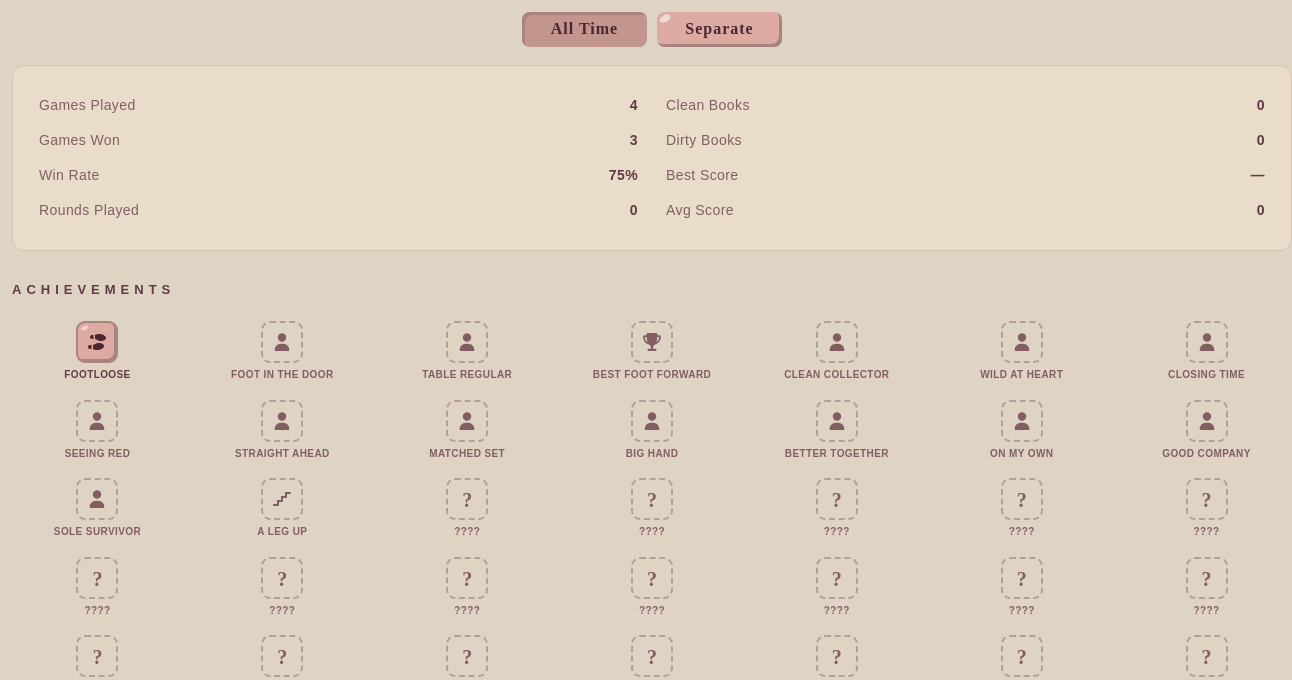
uses difficulty-specific records without mixing them with the legacy bot total
The image size is (1292, 680).
Click the button "Separate". click: (720, 30)
box: left=657, top=12, right=782, bottom=47
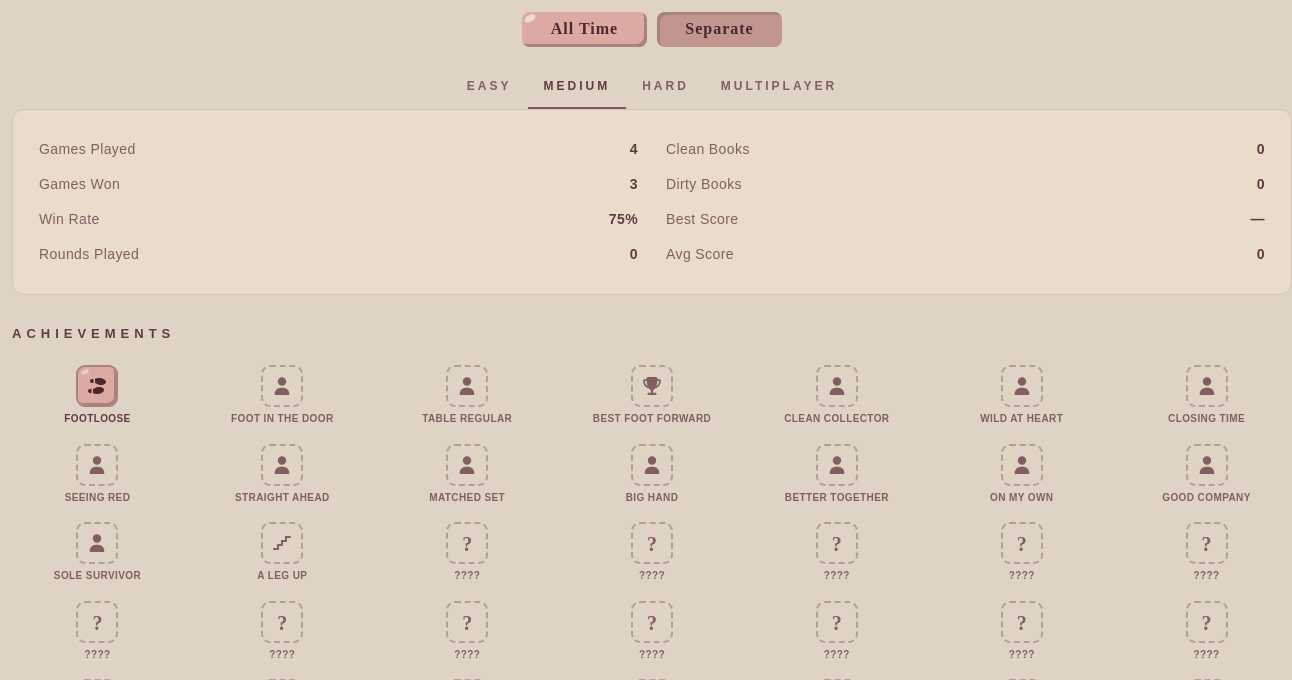
Expected: the text "75%" is shown, left=609, top=209, right=638, bottom=230
Click the button "Easy". click: (489, 87)
box: left=451, top=65, right=528, bottom=109
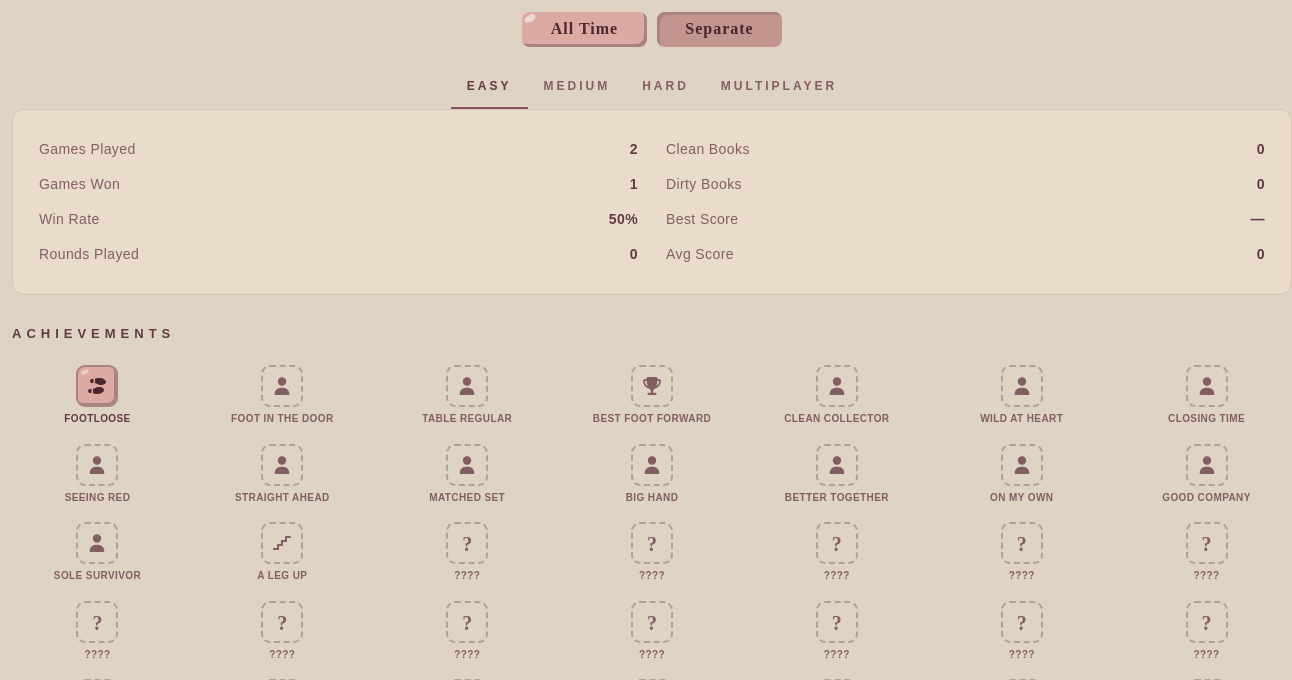
Result: the text "50%" is shown at left=609, top=209, right=638, bottom=230
Click the button "Hard". click: (666, 87)
box: left=626, top=65, right=705, bottom=109
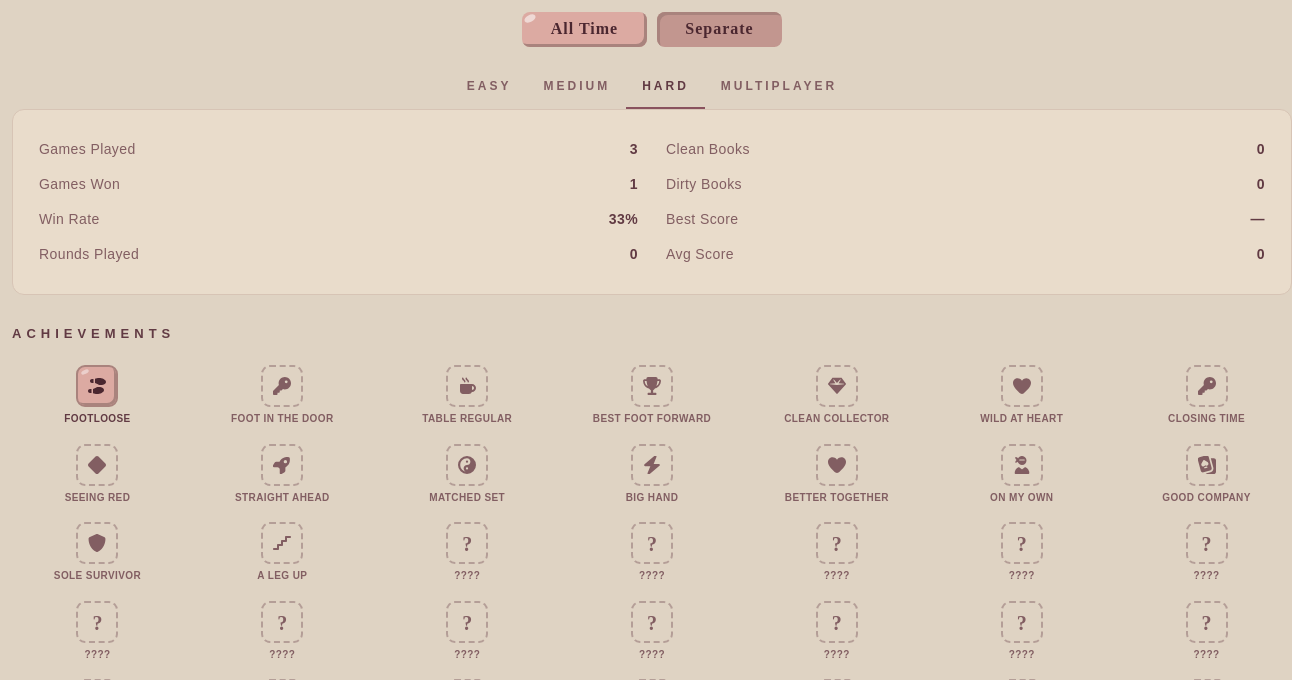
Result: the text "33%" is shown at left=609, top=209, right=638, bottom=230
